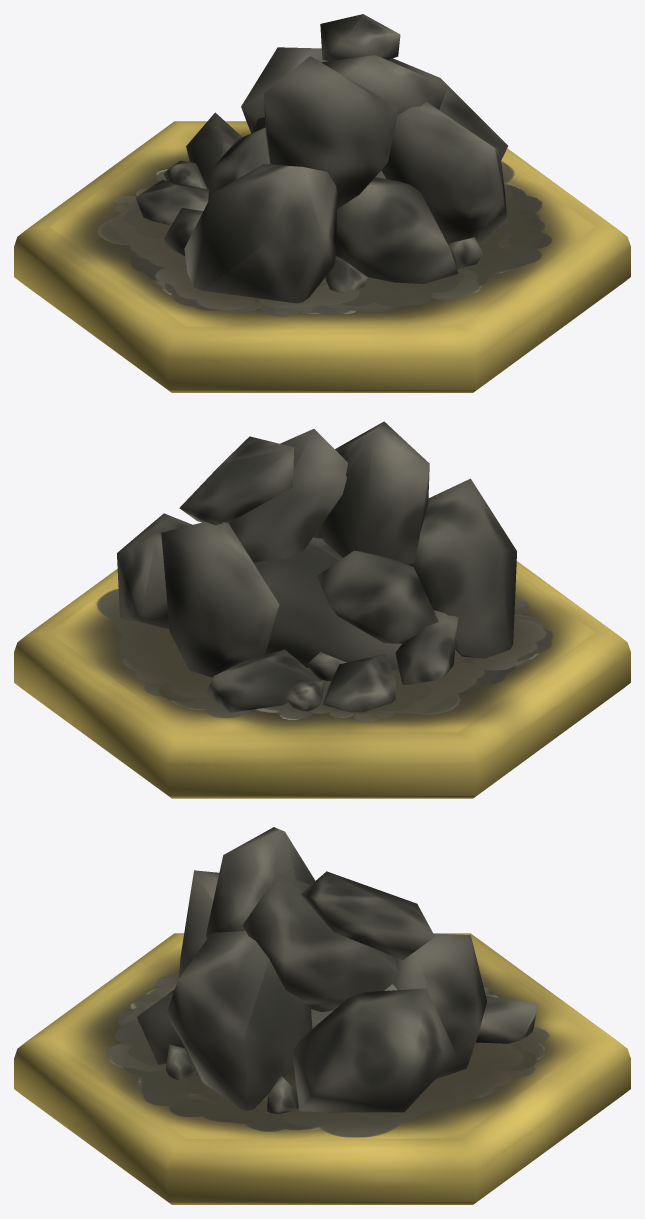
File: Resource_Ore.gltf
The picture shows the model from 3 angles, top to bottom: view 1: azimuth 30°, elevation 25°; view 2: azimuth 150°, elevation 25°; view 3: azimuth 270°, elevation 25°; orthographic projection.
Parts seen in each view (by area): view 1: Ore; view 2: Ore; view 3: Ore.
Boxes of the visible parts, left/top/right/bottom form: Ore: left=14, top=14, right=630, bottom=392; Ore: left=14, top=421, right=630, bottom=798; Ore: left=14, top=827, right=630, bottom=1204.
Bounding box in the file's own units: 1.73 × 0.8871 × 2.
1 material, 1 textured.
